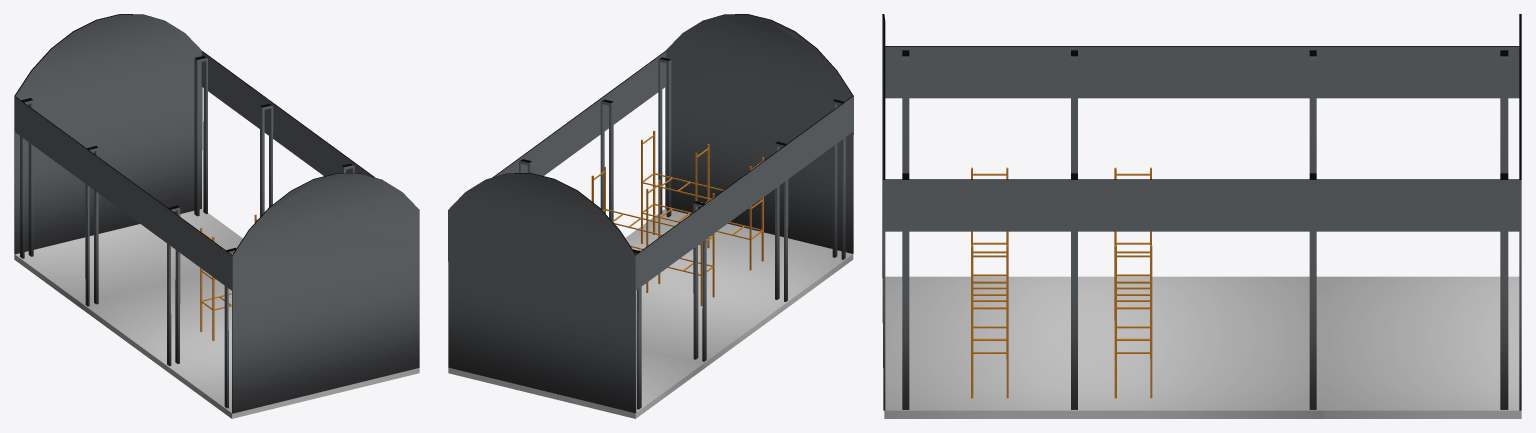
File: soulbrain_T8-storage-3.glb
3 renders of one model, left to right at view 1: azimuth 30°, elevation 25°; view 2: azimuth 150°, elevation 25°; view 3: azimuth 270°, elevation 25°, orthographic. The views are drawn at different scales.
Parts seen in each view (by area): view 1: T8-2; view 2: T8-2; view 3: T8-2.
Part boxes in pixels (bbox=[...]): T8-2: bbox=[14, 14, 419, 418]; T8-2: bbox=[448, 14, 853, 418]; T8-2: bbox=[882, 14, 1521, 418].
Size of the model in its own units: 10.44 by 11.69 by 21.05.
Materials: 4 (3 with a texture image).
